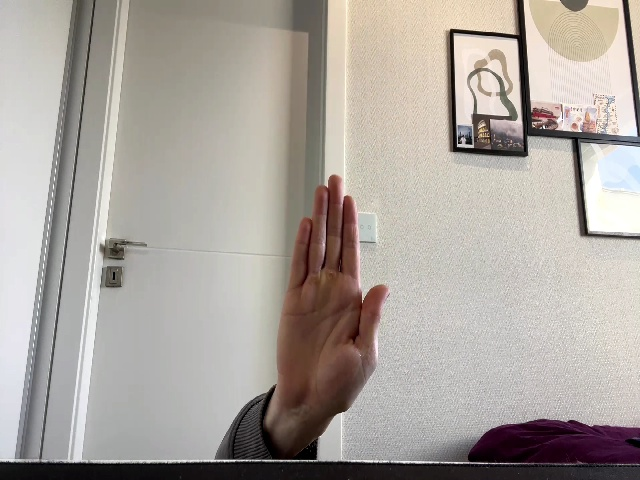B: (277, 175, 390, 413)
